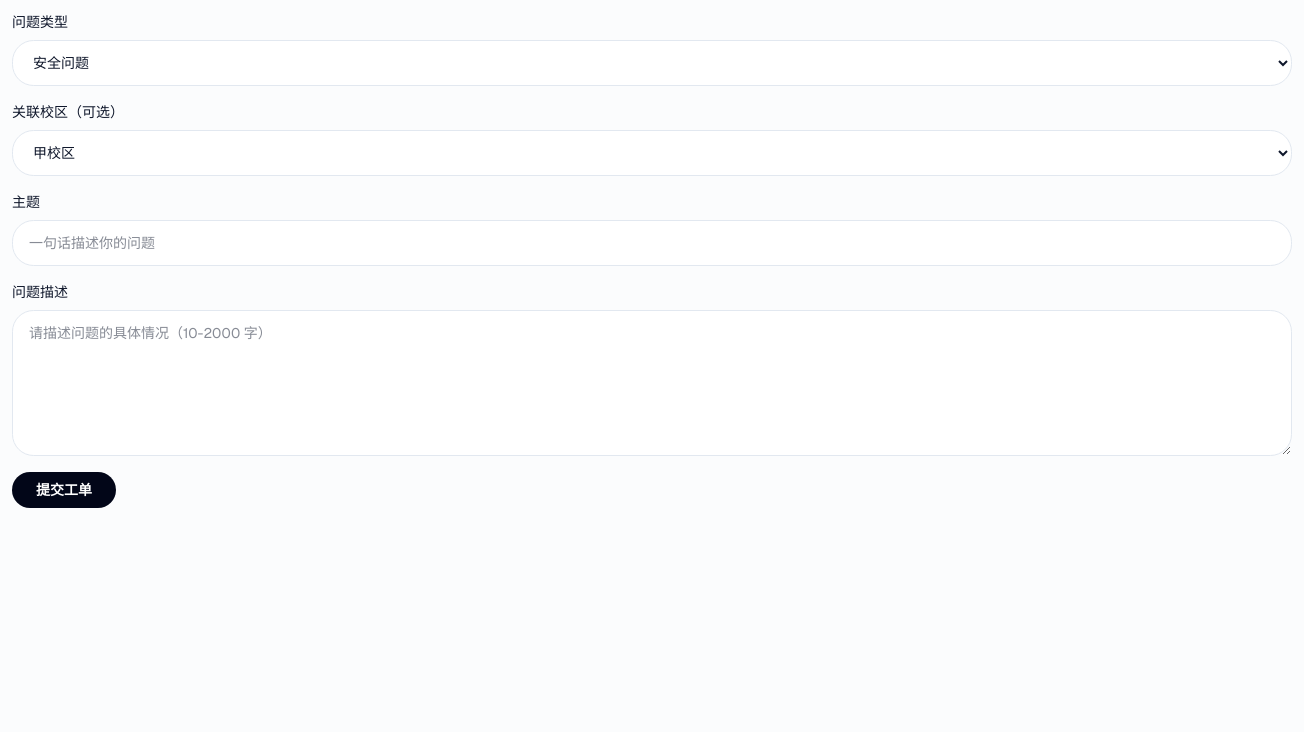
Test: SupportTicketCreateForm（用户面创建表单） › 有 ACTIVE membership 校区 → 渲染校区下拉；成功反馈含详情链接
The image size is (1304, 732).
Type "表单主题" into the field labelled "主题" at x=652, y=243, box [12, 220, 1292, 266]
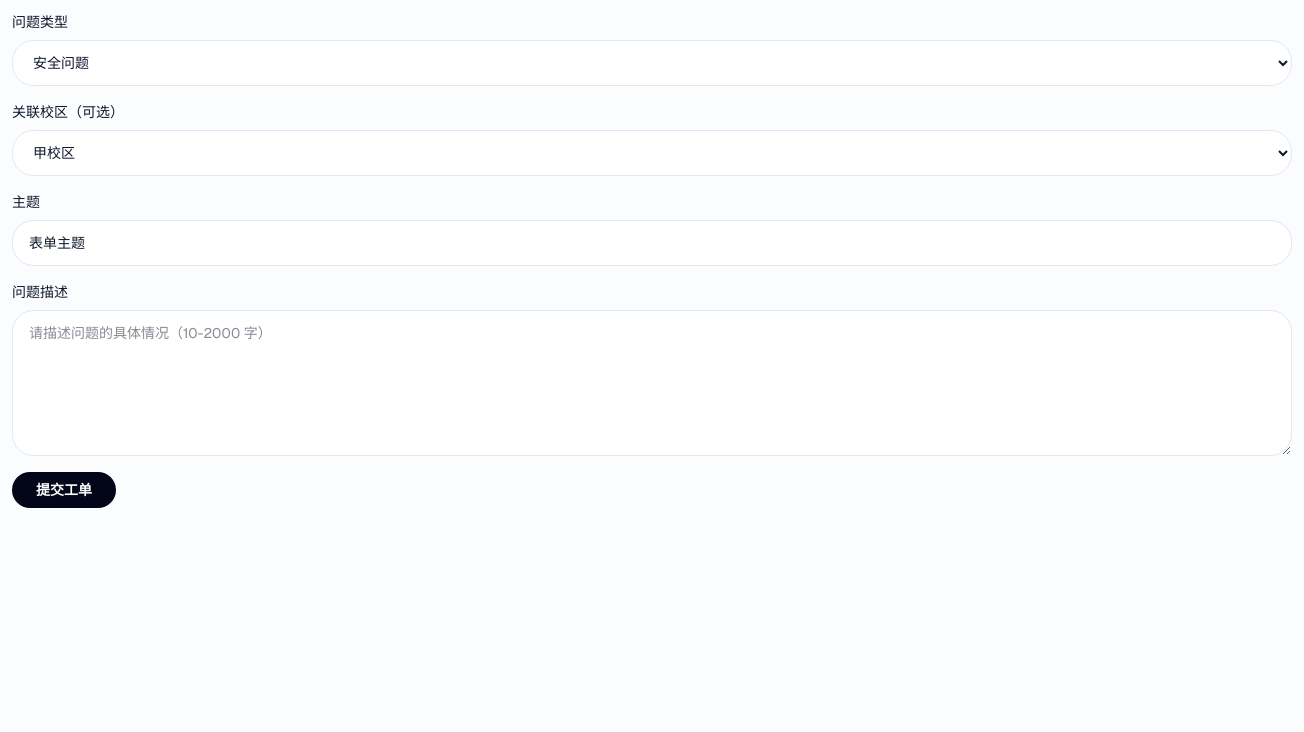
Type "表单问题描述正文足够长。" into the text box labelled "问题描述" at x=652, y=383, box [12, 310, 1292, 456]
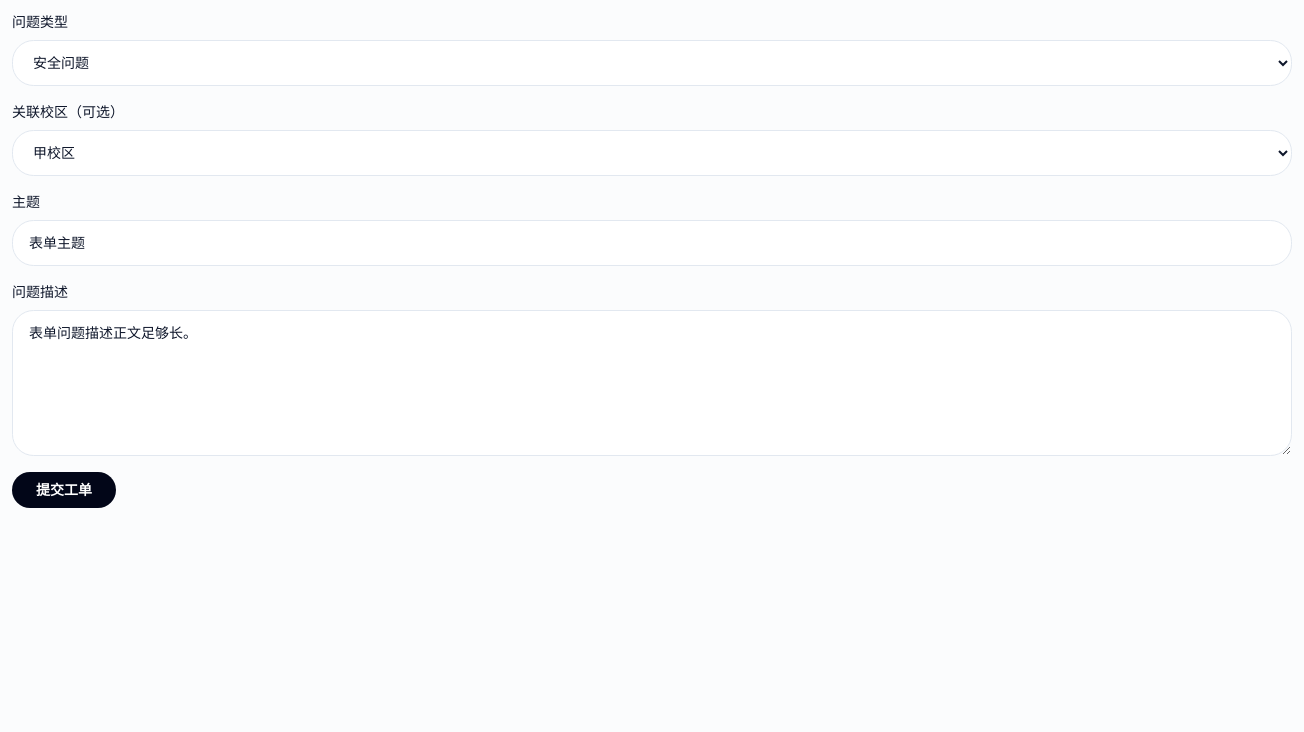
Click the button "提交工单" at x=64, y=490, box [12, 472, 116, 508]
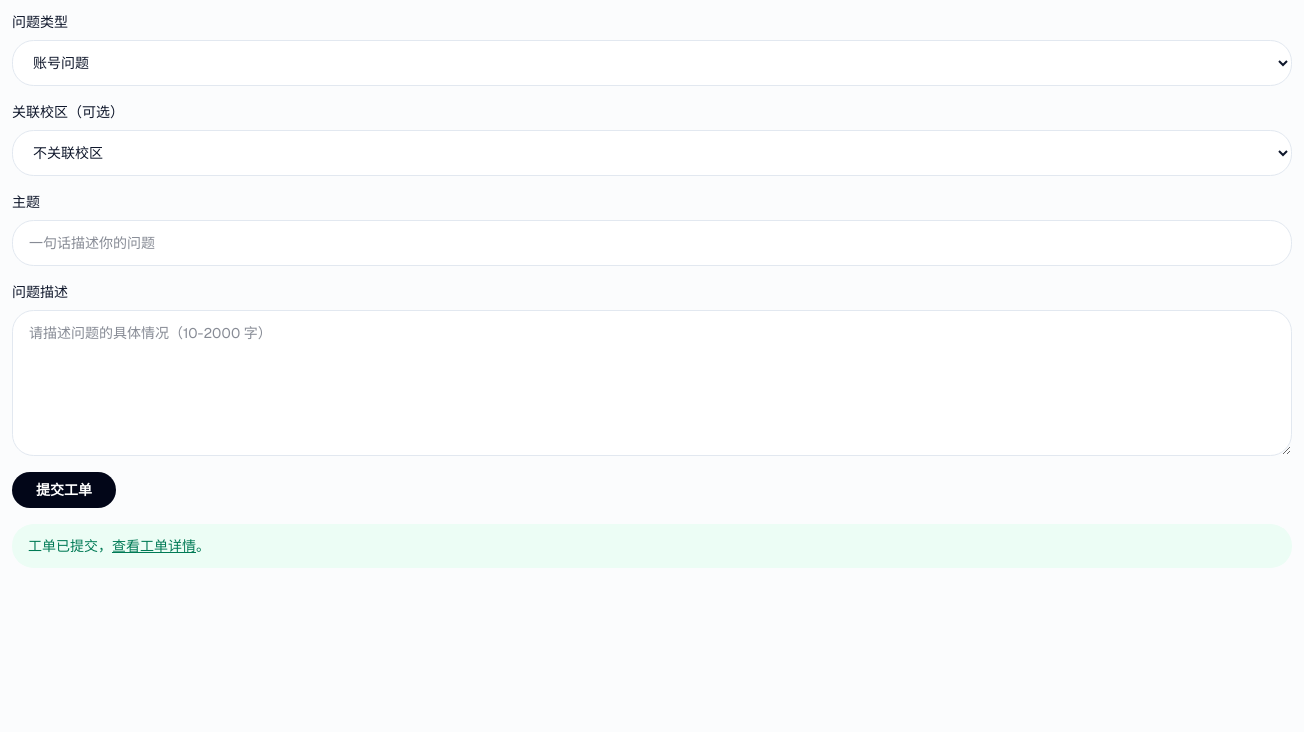
Result: the text "工单已提交， 查看工单详情 。" is shown at [12, 524, 1292, 568]
